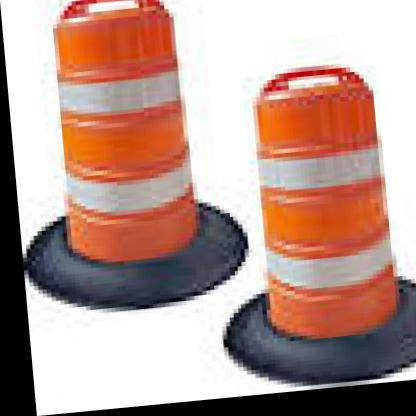obstacle: (224, 74, 413, 358), (35, 6, 211, 272)
